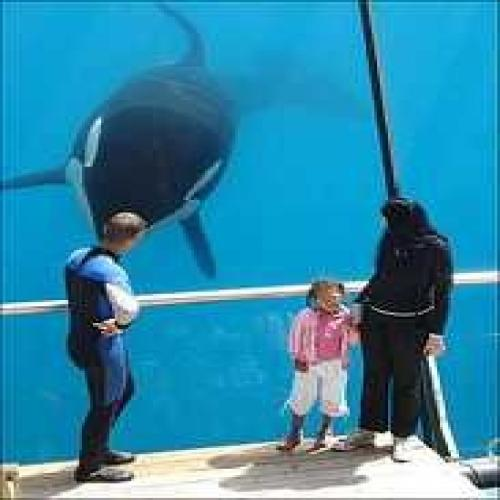killer_whale-endangered: (51, 7, 305, 288)
